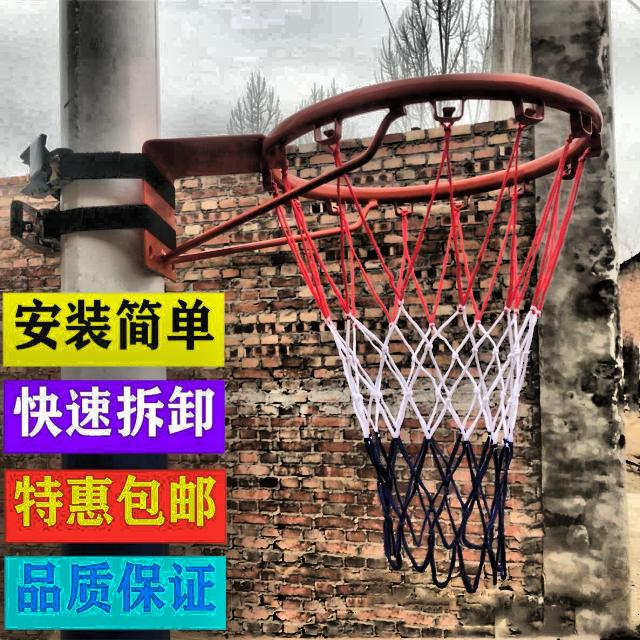rim: (268, 71, 602, 589)
